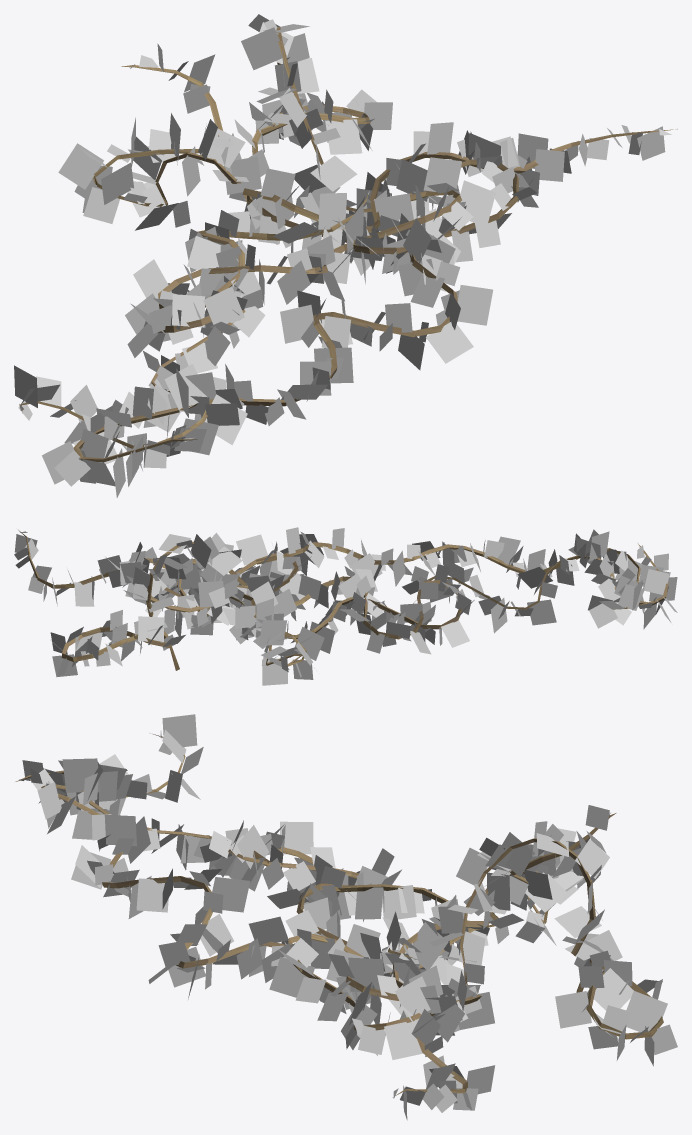
The model's file is ivy_08.fbx.
3 views of the same model, one above another, from view 1: azimuth 30°, elevation 25°; view 2: azimuth 150°, elevation 25°; view 3: azimuth 270°, elevation 25° (orthographic). The views are drawn at different scales.
Visible parts, largest first — view 1: NewIvySnapshot_11; view 2: NewIvySnapshot_11; view 3: NewIvySnapshot_11.
Part boxes in pixels (bbox=[...]): NewIvySnapshot_11: bbox=[14, 14, 677, 497]; NewIvySnapshot_11: bbox=[14, 527, 677, 685]; NewIvySnapshot_11: bbox=[15, 714, 677, 1120].
Bounding box in the file's own units: 124 × 29.33 × 95.17.
